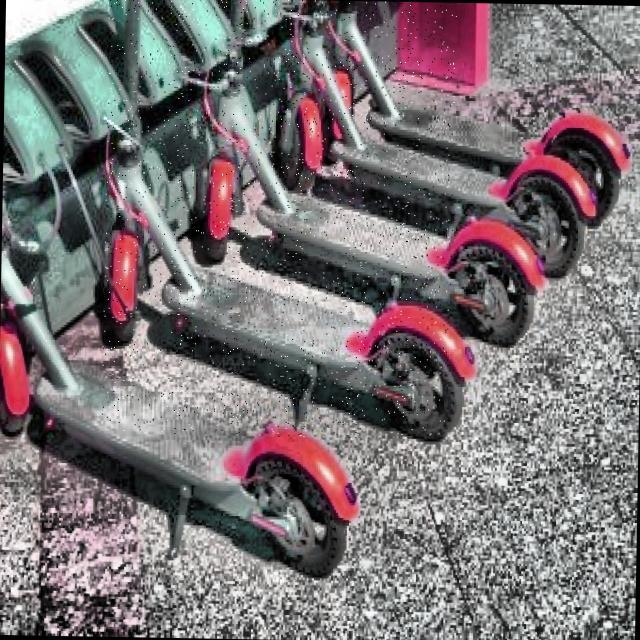bike: (1, 0, 635, 588)
